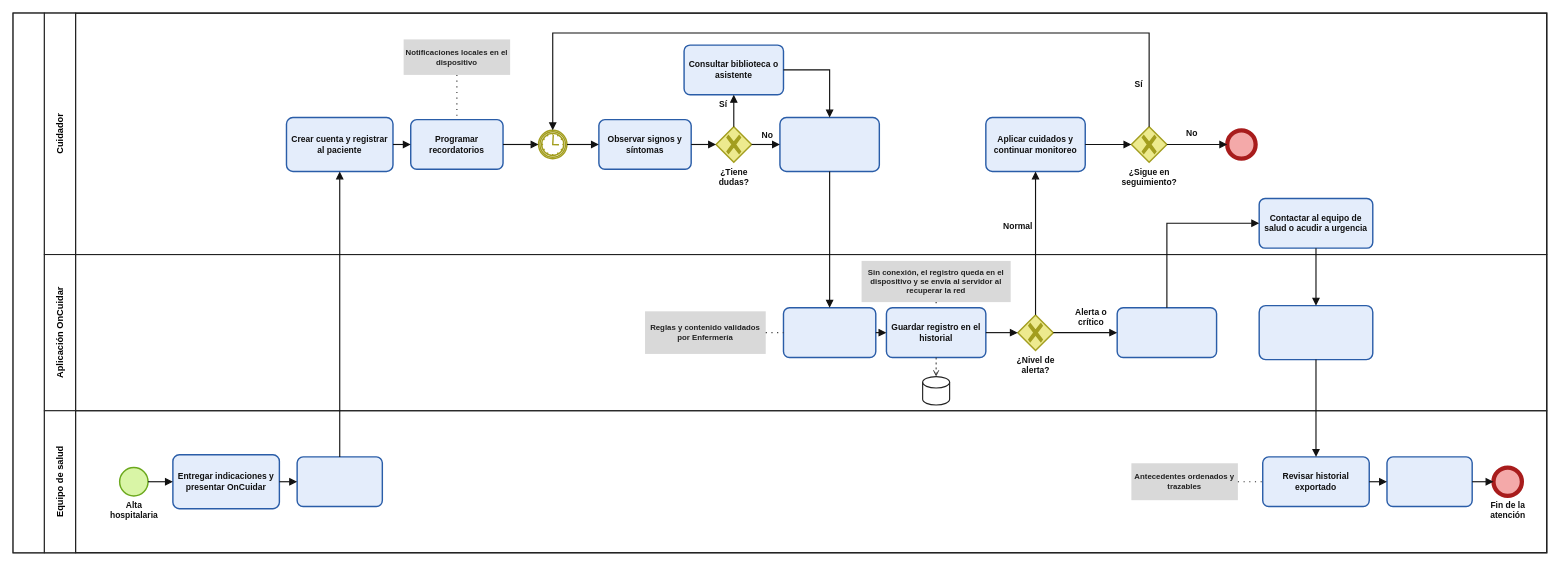
Image size: 1559x565. Some labels were removed from this diagram. Each missing label, with the centre of its shape:
"Atender al paciente" belongs at [1429,481].
"Clasificar nivel de alerta" belongs at [829,332].
"Derivar al hogar" belongs at [339,481].
"Exportar y compartir historial en PDF o Excel" belongs at [1315,332].
"Fin del seguimiento" belongs at [1241,144].
"Historial (servidor)" belongs at [936,390].
"Mostrar alerta y recomendación" belongs at [1166,332].
"Recordatorio diario" belongs at [552,144].
"Registrar síntomas y signos vitales" belongs at [829,144].
"Seguimiento domiciliario futuro con OnCuidar" belongs at [28,282].
